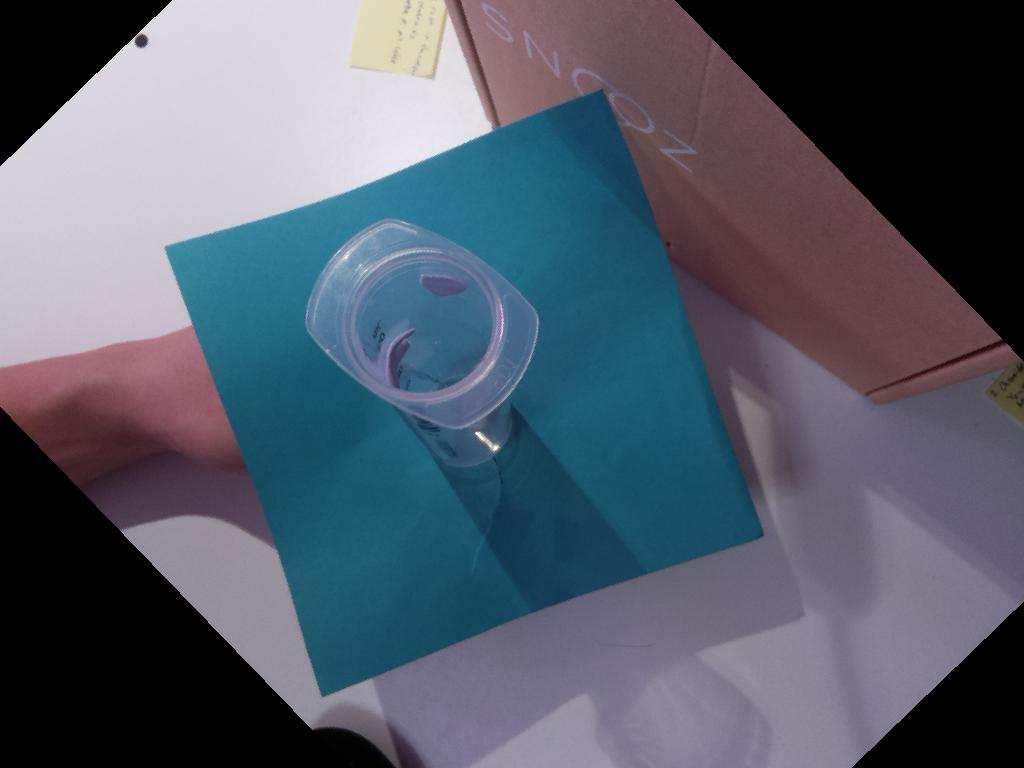dirty: (304, 218, 540, 432)
